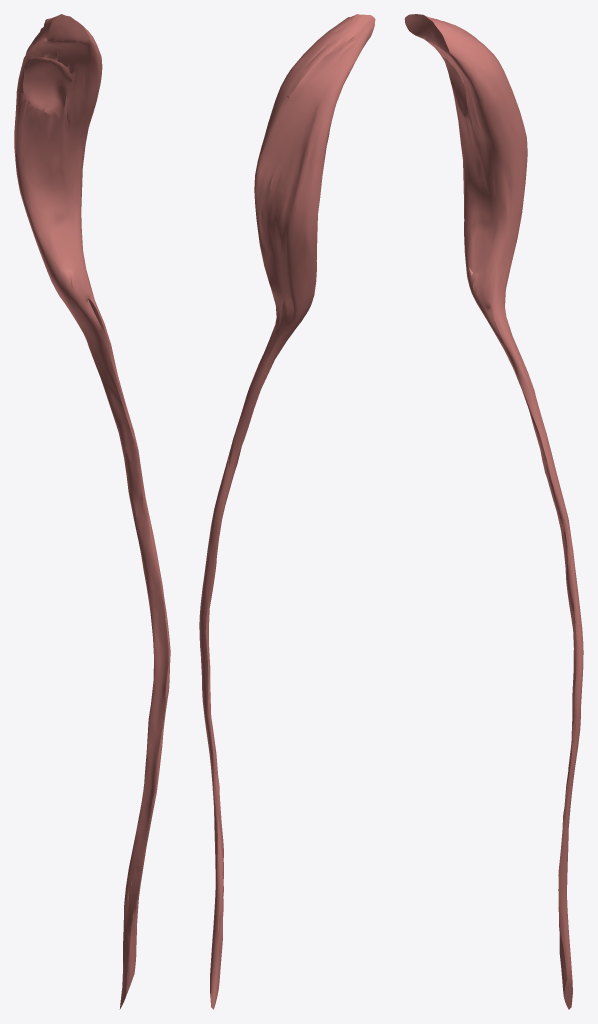
Rendered from fma22560_mm1703m.glb.
3 views of the same model, side by side, from view 1: azimuth 30°, elevation 25°; view 2: azimuth 150°, elevation 25°; view 3: azimuth 330°, elevation 25° (orthographic). The views are drawn at different scales.
Visible parts, largest first — view 1: FMA22560_MM1703M; view 2: FMA22560_MM1703M; view 3: FMA22560_MM1703M.
Boxes of the visible parts, left/top/right/bottom form: FMA22560_MM1703M: left=14, top=14, right=170, bottom=1009; FMA22560_MM1703M: left=199, top=14, right=375, bottom=1009; FMA22560_MM1703M: left=404, top=14, right=583, bottom=1009.
Size of the model in its own units: 0.0589 by 0.3886 by 0.0379.
